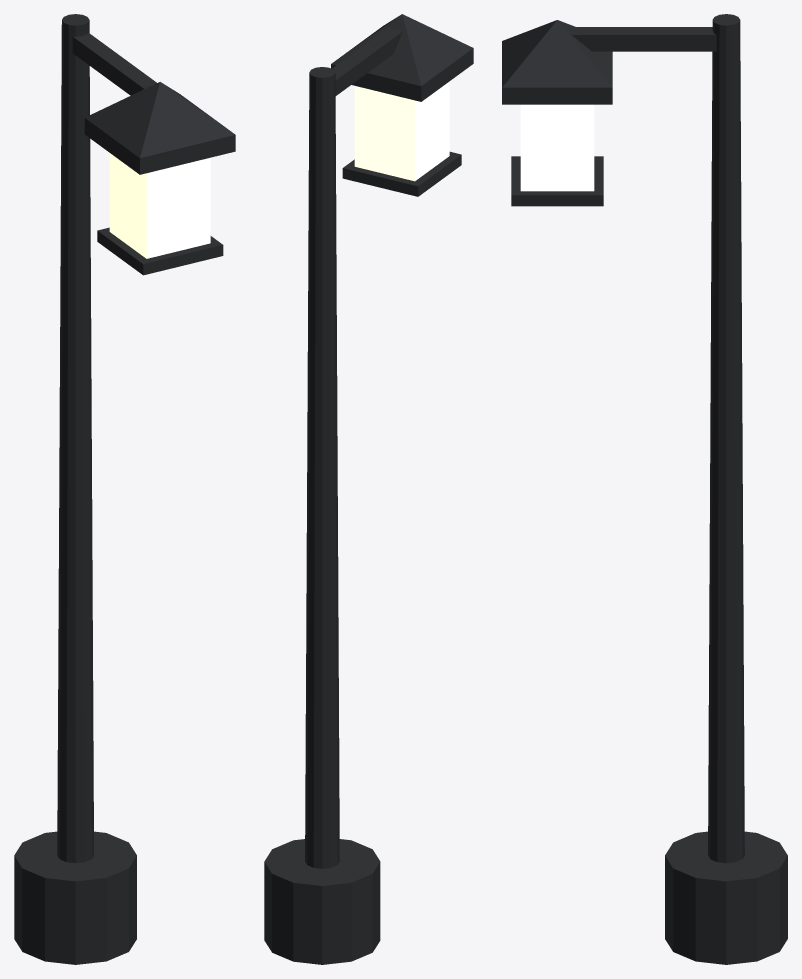
The model's file is lamp.glb.
3 renders of one model, left to right at view 1: azimuth 30°, elevation 25°; view 2: azimuth 150°, elevation 25°; view 3: azimuth 270°, elevation 25°, orthographic. The views are drawn at different scales.
Parts seen in each view (by area): view 1: pole, base, lantern, lantern_roof, lantern_cap, arm, lantern_bottom; view 2: pole, base, lantern, lantern_roof, lantern_bottom, arm, lantern_cap; view 3: pole, base, lantern, lantern_roof, arm, lantern_bottom, lantern_cap.
Part boxes in pixels (x1,y1,x2,y2): pole: (57,14,93,863); base: (14,831,136,964); lantern: (109,153,210,258); lantern_roof: (85,82,235,157); lantern_cap: (84,118,235,174); arm: (72,32,156,95); lantern_bottom: (97,227,223,275); pole: (305,67,339,868); base: (264,839,380,964); lantern: (354,81,449,181); lantern_roof: (331,14,472,85); lantern_bottom: (342,151,461,196); arm: (332,27,402,95); lantern_cap: (331,48,473,101); pole: (708,14,744,863); base: (665,831,787,964); lantern: (520,104,594,191); lantern_roof: (502,20,612,87); arm: (571,27,716,51); lantern_bottom: (511,156,603,206); lantern_cap: (502,87,612,104).
Bounding box in the file's own units: 0.4 × 3.3 × 0.93.
